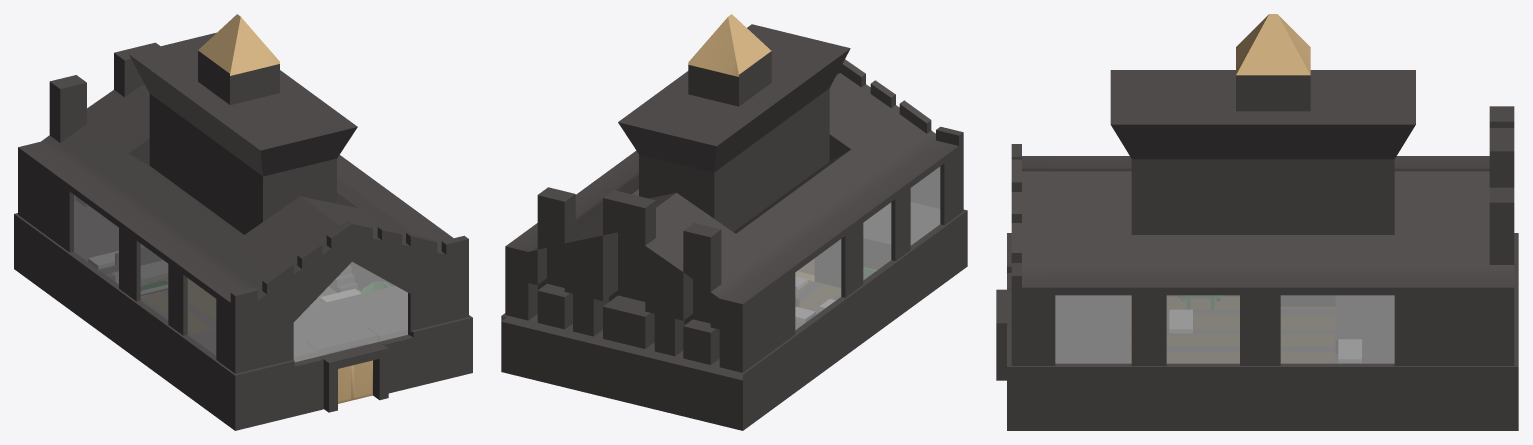
The model's file is Mechanic'sInt.fbx.
3 renders of one model, left to right at view 1: azimuth 30°, elevation 25°; view 2: azimuth 150°, elevation 25°; view 3: azimuth 270°, elevation 25°, orthographic. The views are drawn at different scales.
Visible parts, largest first — view 1: Mechanics_association:pCube1, pipetable, stairs2; view 2: Mechanics_association:pCube1; view 3: Mechanics_association:pCube1, stairs1, tp5, tp10.
Part boxes in pixels (<box>): Mechanics_association:pCube1: <box>14,14,472,430</box>; pipetable: <box>112,260,167,297</box>; stairs2: <box>329,266,357,292</box>; Mechanics_association:pCube1: <box>501,14,967,430</box>; Mechanics_association:pCube1: <box>996,14,1518,430</box>; stairs1: <box>1281,295,1335,306</box>; tp5: <box>1169,310,1192,333</box>; tp10: <box>1338,339,1361,362</box>.
Bounding box in the file's own units: 13.47 × 16.37 × 22.16.
